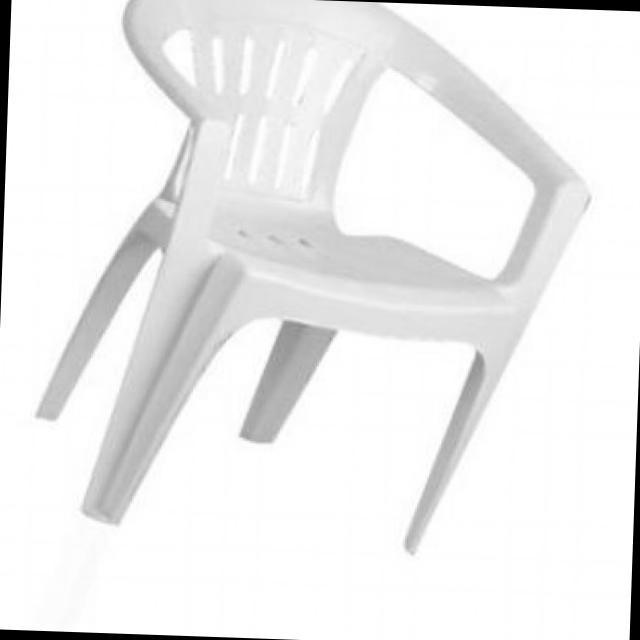chair: (32, 0, 601, 566)
